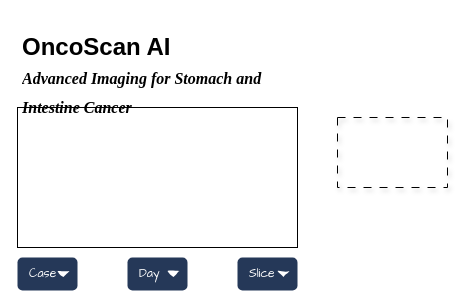
The diagram is 471 pixels wide and 307 high, and some of its shapes have lost their labels. The shapes that lost their labels are listed below. From the top down, each one's centre as x and y in pixels, then its label:
At (393,153): "Visualization Window".
At (157,177): "Figure".
